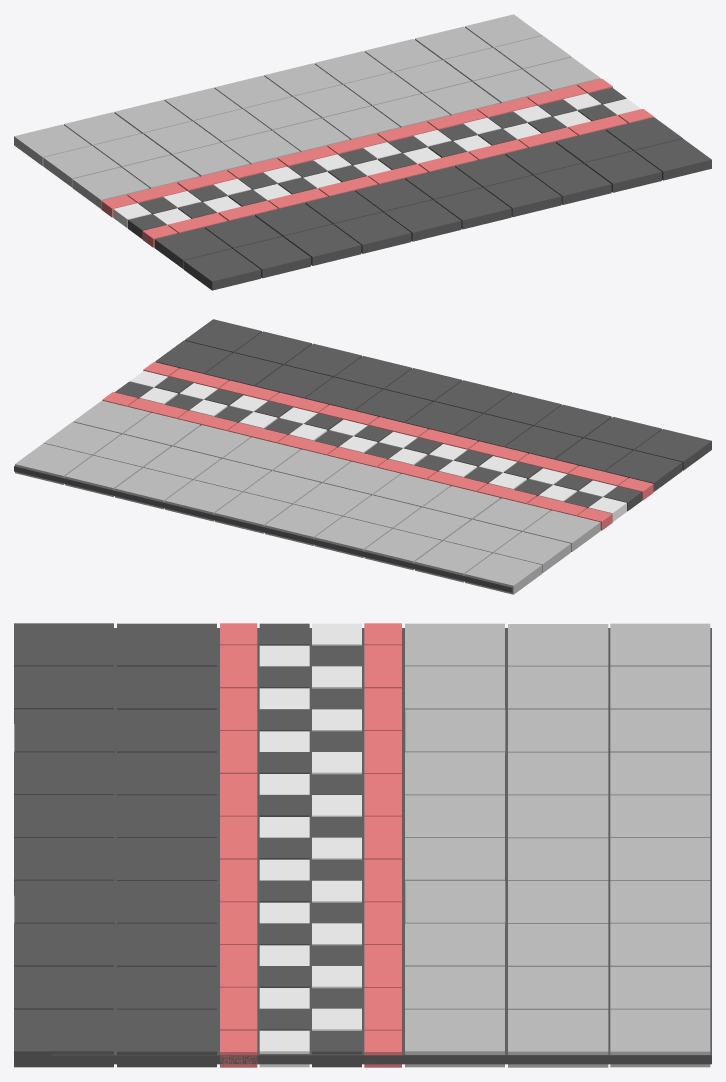
Rendered from fnaf_wall_-_3d_tiles_dae.fbx.
3 views of the same model, one above another, from view 1: azimuth 30°, elevation 25°; view 2: azimuth 150°, elevation 25°; view 3: azimuth 270°, elevation 25° (orthographic). The views are drawn at different scales.
Visible parts, largest first — view 1: imagetostl_mesh41, imagetostl_mesh10, imagetostl_mesh2, imagetostl_mesh4, imagetostl_mesh9, imagetostl_mesh1, imagetostl_mesh6, imagetostl_mesh5, imagetostl_mesh31, imagetostl_mesh7, imagetostl_mesh94, imagetostl_mesh93 (+58 smaller); view 2: imagetostl_mesh0, imagetostl_mesh29, imagetostl_mesh94, imagetostl_mesh41, imagetostl_mesh30, imagetostl_mesh93, imagetostl_mesh25, imagetostl_mesh14, imagetostl_mesh13, imagetostl_mesh23, imagetostl_mesh19, imagetostl_mesh21 (+59 smaller); view 3: imagetostl_mesh0, imagetostl_mesh31, imagetostl_mesh13, imagetostl_mesh11, imagetostl_mesh112, imagetostl_mesh111, imagetostl_mesh10, imagetostl_mesh9, imagetostl_mesh98, imagetostl_mesh101, imagetostl_mesh15, imagetostl_mesh25 (+101 smaller).
Part boxes in pixels (box(x1,y1,x2,y2)): imagetostl_mesh41: box(183, 249, 260, 290); imagetostl_mesh10: box(284, 224, 361, 265); imagetostl_mesh2: box(584, 151, 661, 192); imagetostl_mesh4: box(434, 188, 511, 229); imagetostl_mesh9: box(484, 175, 561, 216); imagetostl_mesh1: box(534, 163, 611, 204); imagetostl_mesh6: box(334, 212, 411, 253); imagetostl_mesh5: box(384, 200, 461, 241); imagetostl_mesh31: box(634, 139, 711, 180); imagetostl_mesh7: box(233, 236, 310, 278); imagetostl_mesh94: box(72, 167, 149, 208); imagetostl_mesh93: box(43, 145, 120, 187); imagetostl_mesh0: box(14, 425, 512, 592); imagetostl_mesh29: box(465, 553, 541, 594); imagetostl_mesh94: box(523, 510, 600, 551); imagetostl_mesh41: box(635, 429, 711, 470); imagetostl_mesh30: box(605, 450, 682, 491); imagetostl_mesh93: box(494, 532, 570, 573); imagetostl_mesh25: box(364, 528, 441, 570); imagetostl_mesh14: box(65, 455, 141, 496); imagetostl_mesh13: box(15, 443, 91, 484); imagetostl_mesh23: box(314, 516, 391, 557); imagetostl_mesh19: box(215, 492, 291, 533); imagetostl_mesh21: box(265, 504, 341, 545); imagetostl_mesh0: box(51, 628, 711, 1064); imagetostl_mesh31: box(14, 1009, 113, 1067); imagetostl_mesh13: box(610, 1009, 710, 1067); imagetostl_mesh11: box(117, 1009, 216, 1067); imagetostl_mesh112: box(405, 1009, 504, 1067); imagetostl_mesh111: box(508, 1010, 608, 1067); imagetostl_mesh10: box(14, 709, 114, 754); imagetostl_mesh9: box(14, 880, 114, 925); imagetostl_mesh98: box(405, 709, 505, 754); imagetostl_mesh101: box(508, 795, 608, 838); imagetostl_mesh15: box(610, 923, 710, 966); imagetostl_mesh25: box(610, 709, 710, 752).
Bounding box in the file's own units: 40553 × 729 × 27904.
